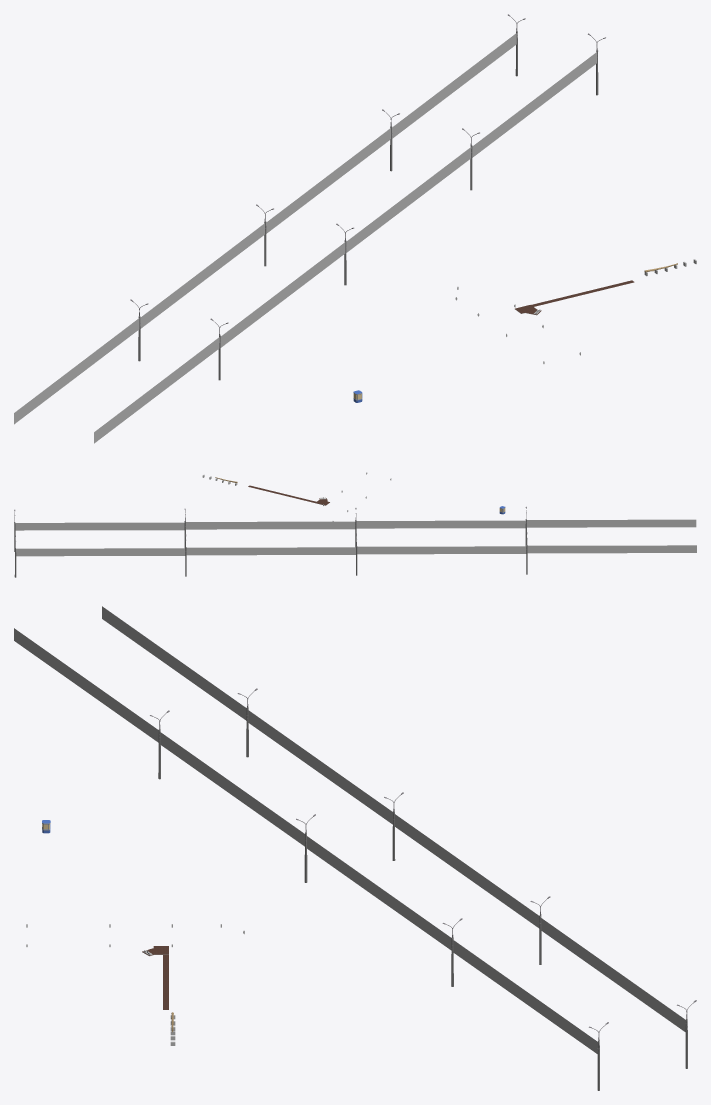
The model's file is out_elems.FBX.
3 renders of one model, top to bottom at view 1: azimuth 30°, elevation 25°; view 2: azimuth 150°, elevation 25°; view 3: azimuth 270°, elevation 25°, orthographic. The views are drawn at different scales.
Visible parts, largest first — view 1: provoda12, provoda10, provoda09, provoda07, provoda11, provoda14, provoda13, provoda08; view 2: provoda08, provoda12, provoda07, provoda09, provoda11, provoda14, provoda10, provoda13; view 3: provoda14, provoda07, provoda12, provoda13, provoda09, provoda08, provoda11, provoda10.
Part boxes in pixels (bbox=[...]): provoda12: bbox=[14, 318, 139, 424]; provoda10: bbox=[94, 337, 219, 443]; provoda09: bbox=[220, 242, 345, 347]; provoda07: bbox=[346, 147, 471, 252]; provoda11: bbox=[140, 223, 264, 328]; provoda14: bbox=[266, 128, 390, 233]; provoda13: bbox=[392, 33, 516, 138]; provoda08: bbox=[472, 52, 596, 157]; provoda08: bbox=[15, 522, 184, 530]; provoda12: bbox=[527, 545, 696, 553]; provoda07: bbox=[186, 521, 355, 529]; provoda09: bbox=[356, 520, 525, 528]; provoda11: bbox=[357, 546, 526, 554]; provoda14: bbox=[186, 547, 355, 555]; provoda10: bbox=[527, 519, 696, 527]; provoda13: bbox=[16, 548, 185, 556]; provoda14: bbox=[394, 814, 539, 928]; provoda07: bbox=[307, 836, 451, 950]; provoda12: bbox=[102, 606, 246, 720]; provoda13: bbox=[541, 918, 685, 1031]; provoda09: bbox=[160, 732, 304, 846]; provoda08: bbox=[453, 940, 597, 1053]; provoda11: bbox=[248, 710, 392, 824]; provoda10: bbox=[14, 628, 158, 742].
Bounding box in the file's own units: 8703 × 5710 × 670.
